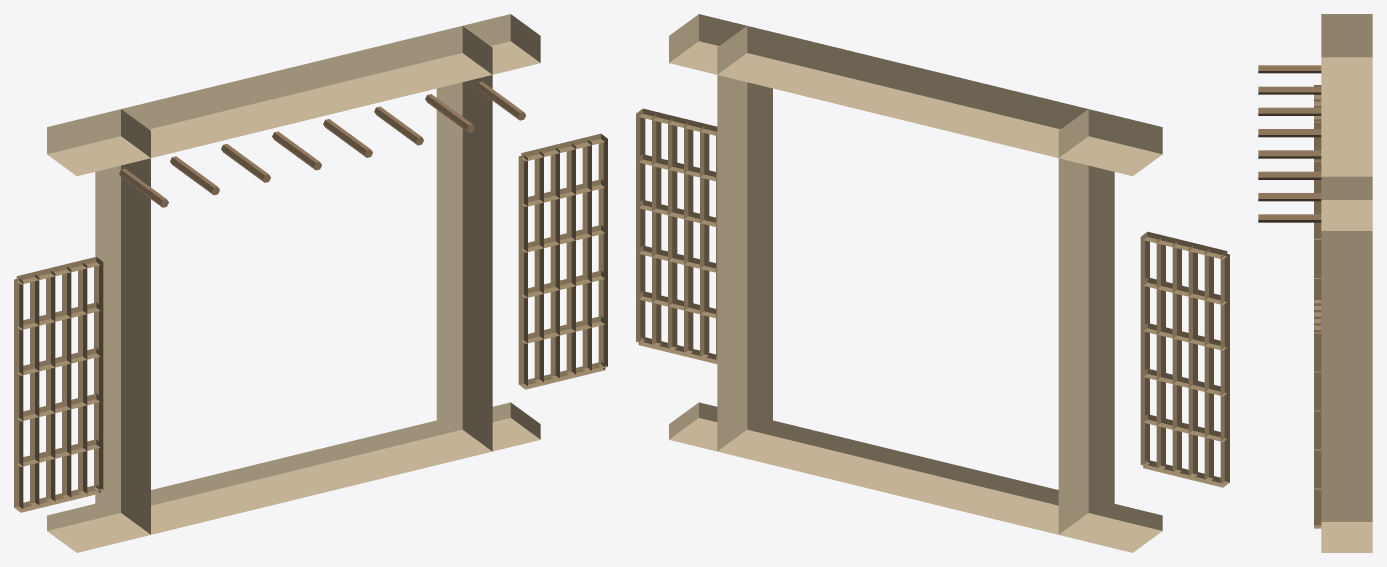
File: pandanus_woven_portal.glb
3 renders of one model, left to right at view 1: azimuth 30°, elevation 25°; view 2: azimuth 150°, elevation 25°; view 3: azimuth 270°, elevation 25°, orthographic. The views are drawn at different scales.
Visible parts, largest first — view 1: pandanus_woven_portal; view 2: pandanus_woven_portal; view 3: pandanus_woven_portal.
Boxes of the visible parts, bbox=[...] form: pandanus_woven_portal: bbox=[14, 14, 607, 552]; pandanus_woven_portal: bbox=[636, 14, 1229, 552]; pandanus_woven_portal: bbox=[1258, 14, 1372, 552].
Bounding box in the file's own units: 6.36 × 4.16 × 1.25.
